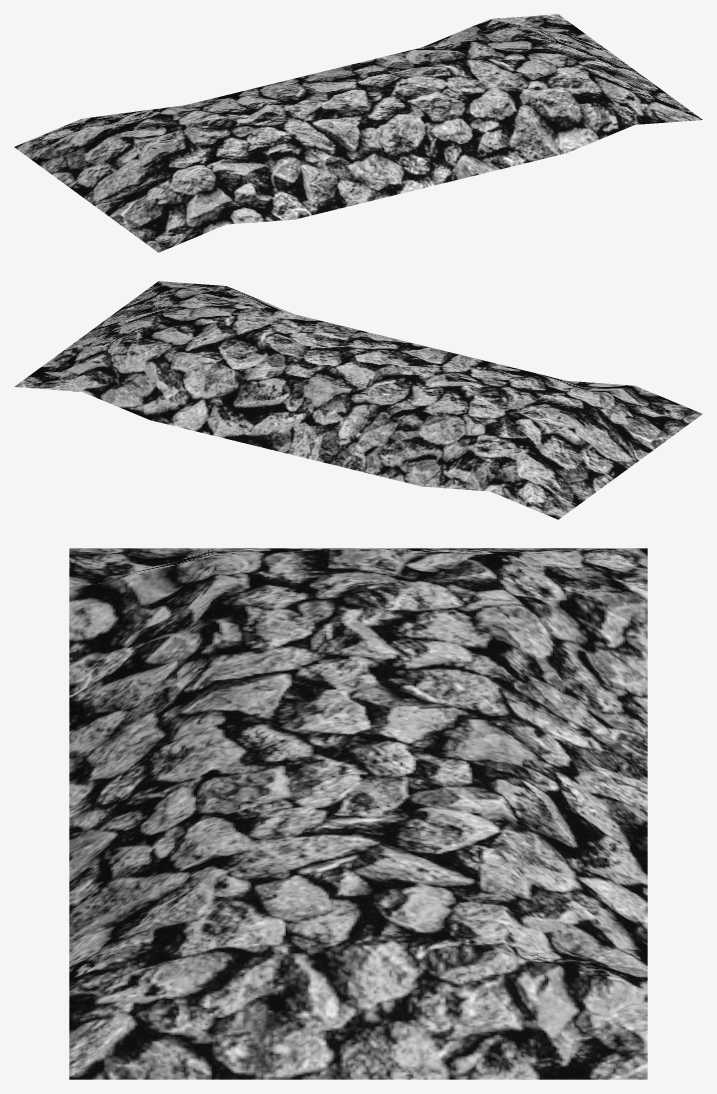
Rendered from locomotive-01-wagon-02-ore-03.fbx.
3 views of the same model, one above another, from view 1: azimuth 30°, elevation 25°; view 2: azimuth 150°, elevation 25°; view 3: azimuth 270°, elevation 25° (orthographic). The views are drawn at different scales.
Visible parts, largest first — view 1: Cube.009_Mesh.002; view 2: Cube.009_Mesh.002; view 3: Cube.009_Mesh.002.
Boxes of the visible parts, x1,y1,x2,y2 form: Cube.009_Mesh.002: [14, 14, 702, 252]; Cube.009_Mesh.002: [14, 281, 702, 519]; Cube.009_Mesh.002: [69, 548, 647, 1079].
Size of the model in its own units: 3.97 by 0.2976 by 1.83.
